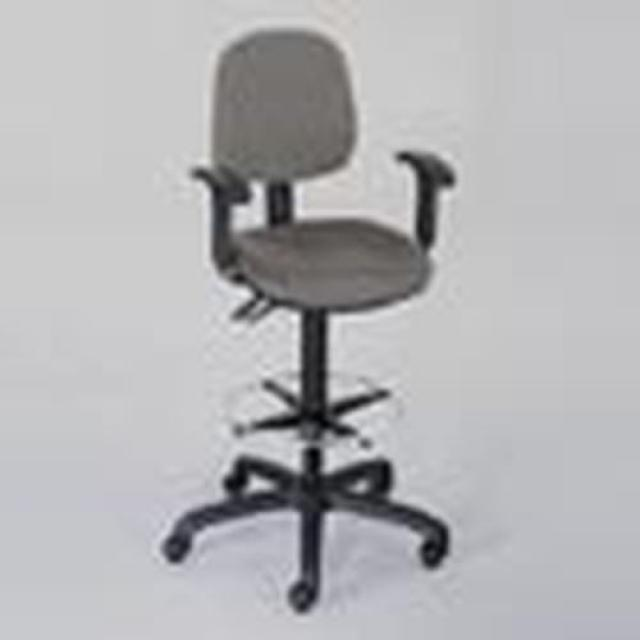swivelchair: (161, 31, 456, 616)
